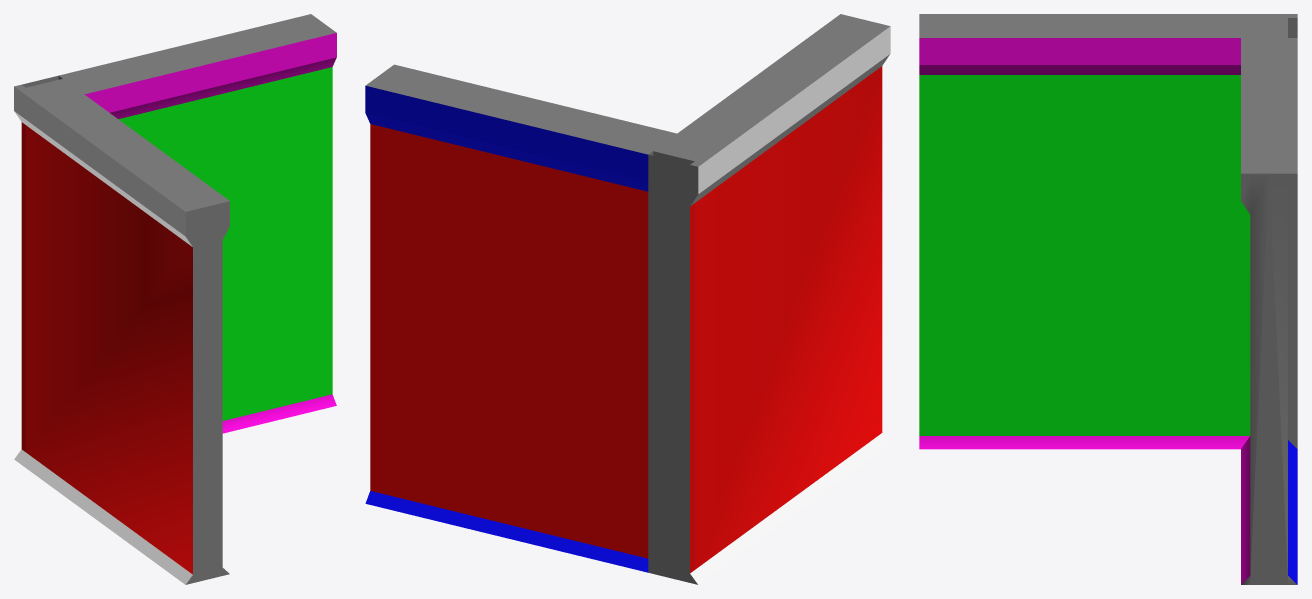
File: InnerFlatHalfEdgedLeft.FBX
3 renders of one model, left to right at view 1: azimuth 30°, elevation 25°; view 2: azimuth 150°, elevation 25°; view 3: azimuth 270°, elevation 25°, orthographic. The views are drawn at different scales.
Parts seen in each view (by area): view 1: ModularWallInnerFlat001; view 2: ModularWallInnerFlat001; view 3: ModularWallInnerFlat001.
Boxes of the visible parts, x1,y1,x2,y2 form: ModularWallInnerFlat001: (14, 14, 336, 584); ModularWallInnerFlat001: (365, 14, 890, 584); ModularWallInnerFlat001: (919, 14, 1297, 584).
Bounding box in the file's own units: 100 × 120 × 100.
